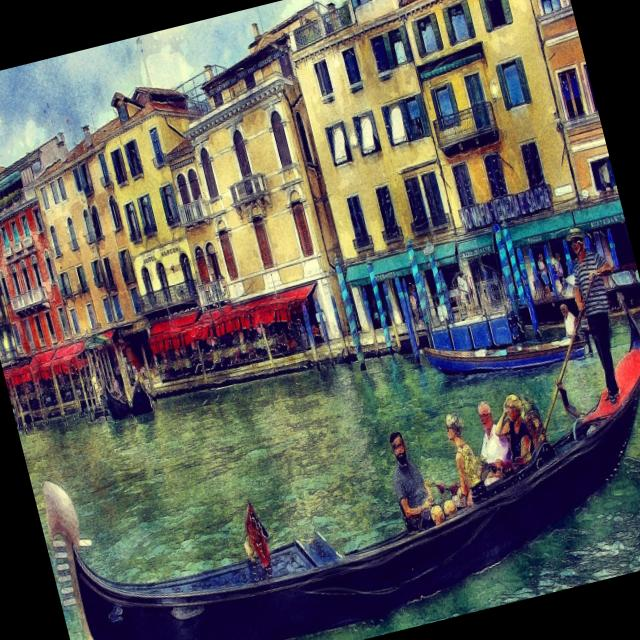boat: (20, 285, 640, 640)
